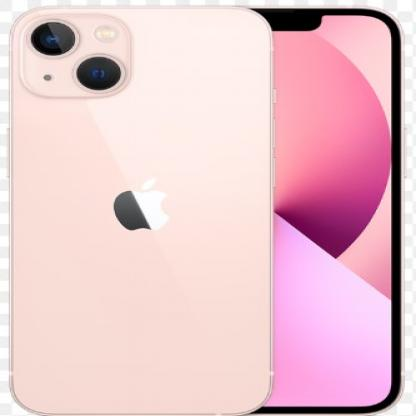SMARTPHONE: (12, 0, 409, 416)
